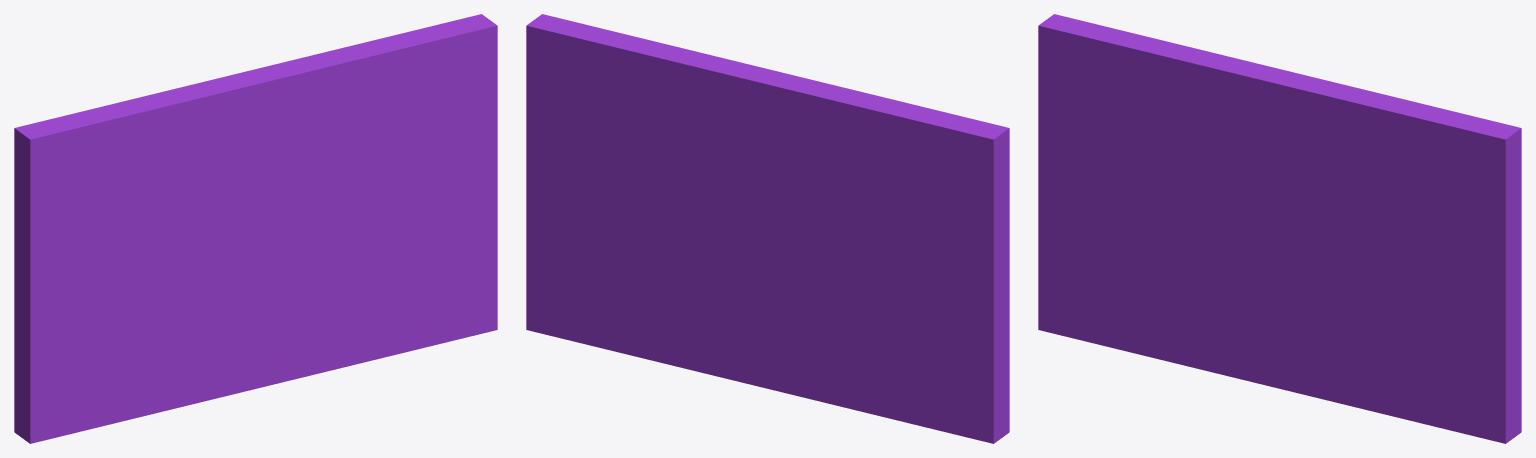
Rendered from Barrier_127_chunks.fbx.
3 renders of one model, left to right at view 1: azimuth 30°, elevation 25°; view 2: azimuth 150°, elevation 25°; view 3: azimuth 330°, elevation 25°, orthographic.
Visible parts, largest first — view 1: Barrier_127_0, Barrier_127_2, Barrier_127_5, Barrier_127_4, Barrier_127_3, Barrier_127_6; view 2: Barrier_127_0, Barrier_127_2, Barrier_127_5, Barrier_127_4, Barrier_127_3, Barrier_127_1; view 3: Barrier_127_0, Barrier_127_2, Barrier_127_5, Barrier_127_4, Barrier_127_3, Barrier_127_6.
Part boxes in pixels (x1=…): Barrier_127_0: x1=14, y1=75, x2=264, y2=443; Barrier_127_2: x1=232, y1=14, x2=497, y2=291; Barrier_127_5: x1=66, y1=278, x2=301, y2=434; Barrier_127_4: x1=348, y1=262, x2=497, y2=366; Barrier_127_3: x1=223, y1=236, x2=374, y2=304; Barrier_127_6: x1=295, y1=284, x2=351, y2=377; Barrier_127_0: x1=768, y1=74, x2=1009, y2=443; Barrier_127_2: x1=526, y1=14, x2=789, y2=288; Barrier_127_5: x1=706, y1=272, x2=965, y2=436; Barrier_127_4: x1=526, y1=258, x2=708, y2=373; Barrier_127_3: x1=657, y1=239, x2=799, y2=304; Barrier_127_1: x1=735, y1=162, x2=791, y2=263; Barrier_127_0: x1=1038, y1=14, x2=1273, y2=338; Barrier_127_2: x1=1257, y1=67, x2=1521, y2=405; Barrier_127_5: x1=1074, y1=259, x2=1309, y2=395; Barrier_127_4: x1=1356, y1=316, x2=1521, y2=443; Barrier_127_3: x1=1231, y1=237, x2=1382, y2=326; Barrier_127_6: x1=1303, y1=320, x2=1359, y2=407.
Size of the model in its own units: 462 by 288 by 27.2.
